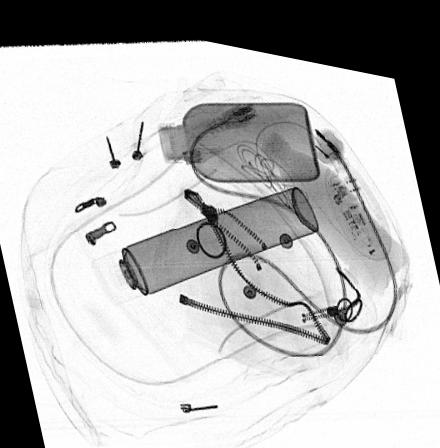Sprayer: (89, 173, 318, 300)
